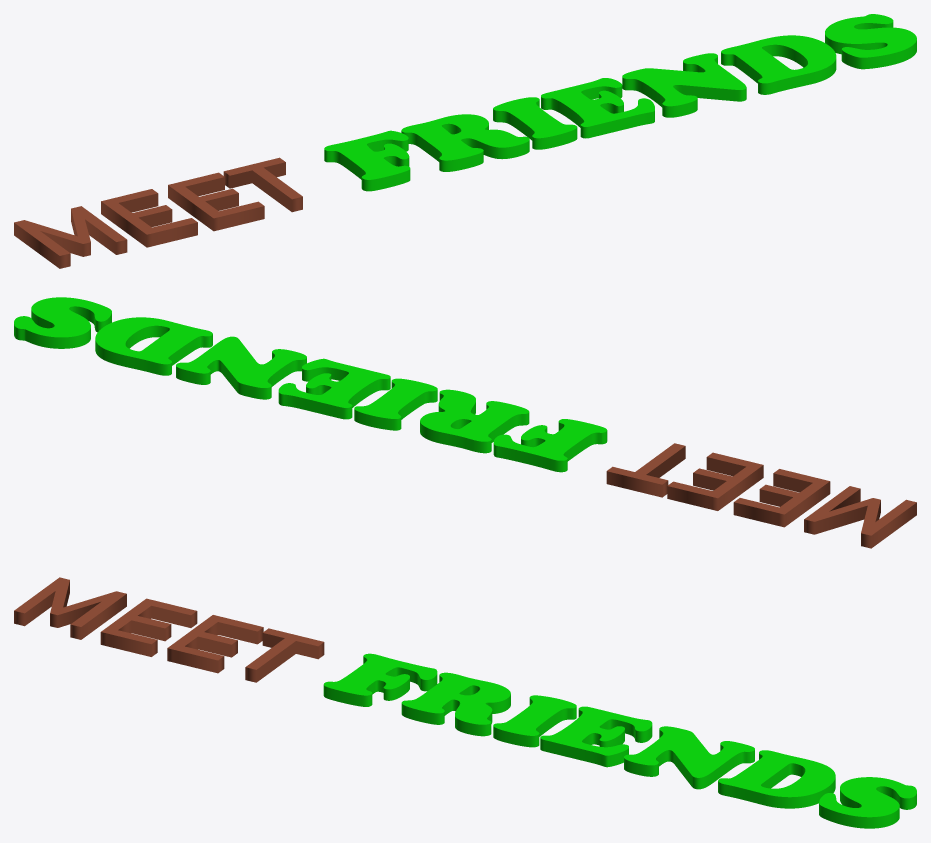
Rendered from meet_friends.fbx.
The picture shows the model from 3 angles, top to bottom: view 1: azimuth 30°, elevation 25°; view 2: azimuth 150°, elevation 25°; view 3: azimuth 330°, elevation 25°; orthographic projection.
Parts seen in each view (by area): view 1: MeetFriends; view 2: MeetFriends; view 3: MeetFriends.
Boxes of the visible parts, x1,y1,x2,y2 form: MeetFriends: (14,14,916,268); MeetFriends: (14,297,916,548); MeetFriends: (14,577,916,828).
Bounding box in the file's own units: 563 × 8 × 53.57.
